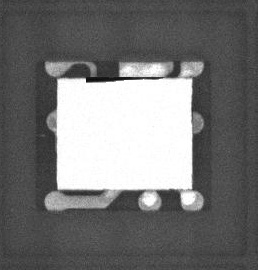DIE_BROKEN: (83, 75, 159, 84)
